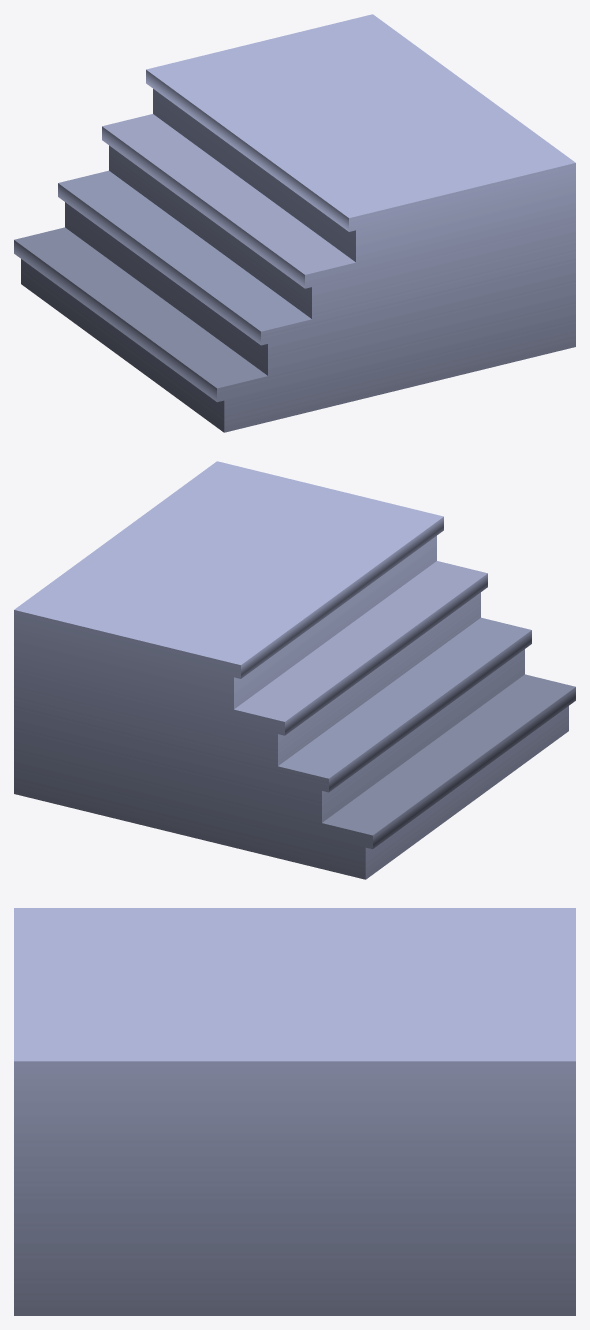
The model's file is stairs-full.fbx.
3 views of the same model, one above another, from view 1: azimuth 30°, elevation 25°; view 2: azimuth 150°, elevation 25°; view 3: azimuth 270°, elevation 25° (orthographic). The views are drawn at different scales.
Visible parts, largest first — view 1: stairs-full; view 2: stairs-full; view 3: stairs-full.
Part boxes in pixels (x1,y1,x2,y2): stairs-full: (14,14,575,432); stairs-full: (14,461,575,879); stairs-full: (14,908,575,1315).
Size of the model in its own units: 102 by 50 by 100.
1 material, 1 textured.
